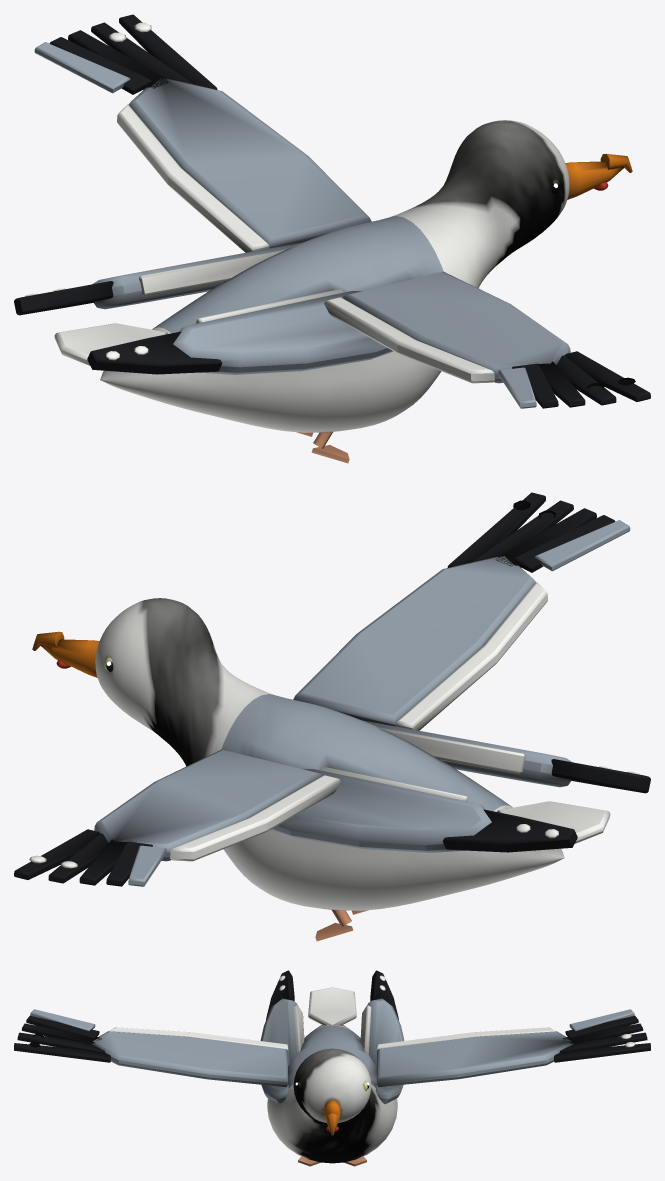
Rendered from seagull.glb.
3 views of the same model, one above another, from view 1: azimuth 30°, elevation 25°; view 2: azimuth 150°, elevation 25°; view 3: azimuth 270°, elevation 25° (orthographic). The views are drawn at different scales.
Parts seen in each view (by area): view 1: gull_body, wing_l_mesh, wings_folded, wing_r_mesh; view 2: gull_body, wing_r_mesh, wings_folded, wing_l_mesh; view 3: gull_body, wing_l_mesh, wing_r_mesh, wings_folded.
Part boxes in pixels (x1,y1,x2,y2): gull_body: [54, 120, 632, 463]; wing_l_mesh: [34, 14, 371, 252]; wings_folded: [14, 242, 393, 374]; wing_r_mesh: [324, 271, 650, 408]; gull_body: [32, 598, 610, 941]; wing_r_mesh: [293, 492, 630, 730]; wings_folded: [271, 720, 650, 852]; wing_l_mesh: [14, 749, 340, 886]; gull_body: [267, 987, 397, 1166]; wing_l_mesh: [376, 1009, 650, 1086]; wing_r_mesh: [14, 1009, 288, 1086]; wings_folded: [260, 970, 404, 1104].
Bounding box in the file's own units: 1.01 × 0.4603 × 1.57.
